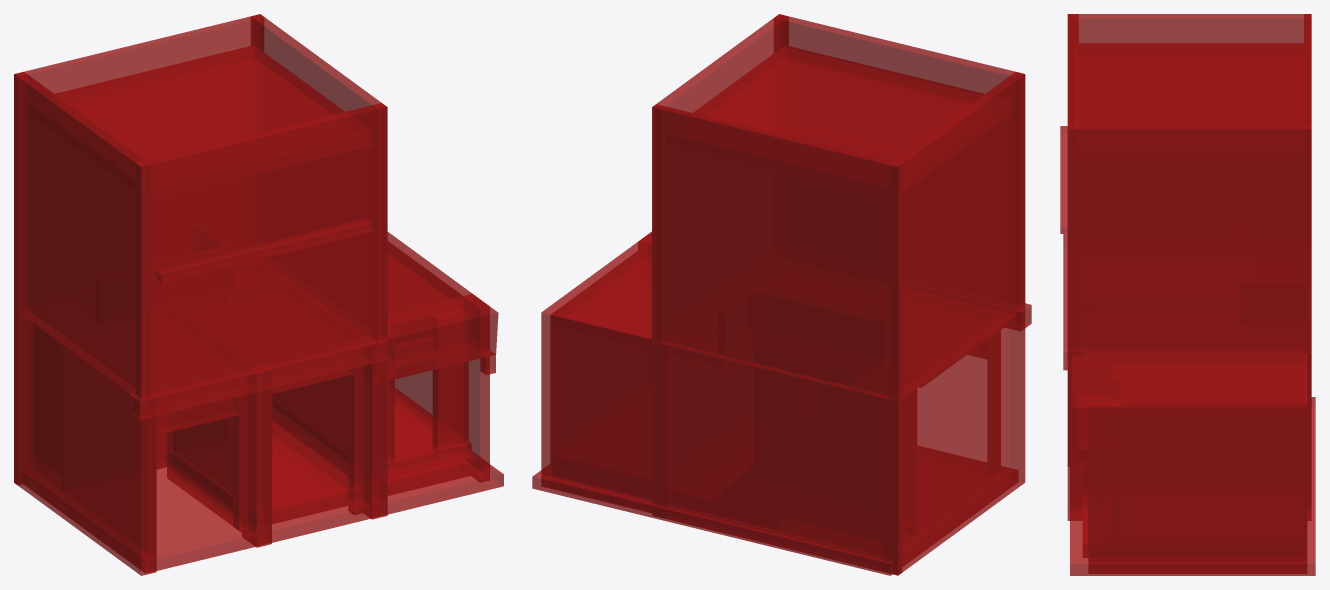
File: SM_Bld_Shop_01_Collision.fbx
3 renders of one model, left to right at view 1: azimuth 30°, elevation 25°; view 2: azimuth 150°, elevation 25°; view 3: azimuth 270°, elevation 25°, orthographic. The views are drawn at different scales.
Parts seen in each view (by area): view 1: SM_Bld_Shop_01_Collision; view 2: SM_Bld_Shop_01_Collision; view 3: SM_Bld_Shop_01_Collision.
Part boxes in pixels (x1,y1,x2,y2): SM_Bld_Shop_01_Collision: (14, 14, 503, 575); SM_Bld_Shop_01_Collision: (532, 14, 1031, 575); SM_Bld_Shop_01_Collision: (1060, 14, 1315, 575).
Bounding box in the file's own units: 956 × 1016 × 600.
